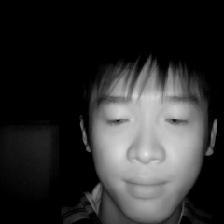normal: (75, 37, 221, 219)
